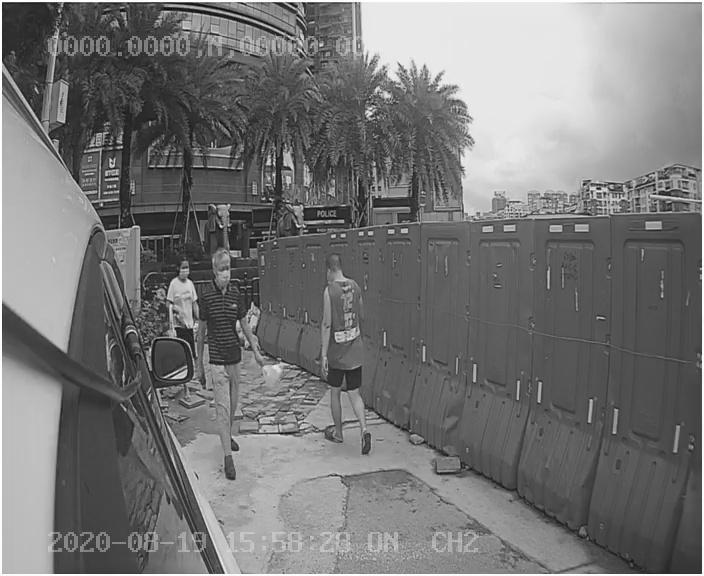person: (191, 252, 288, 475), (291, 246, 391, 458)
